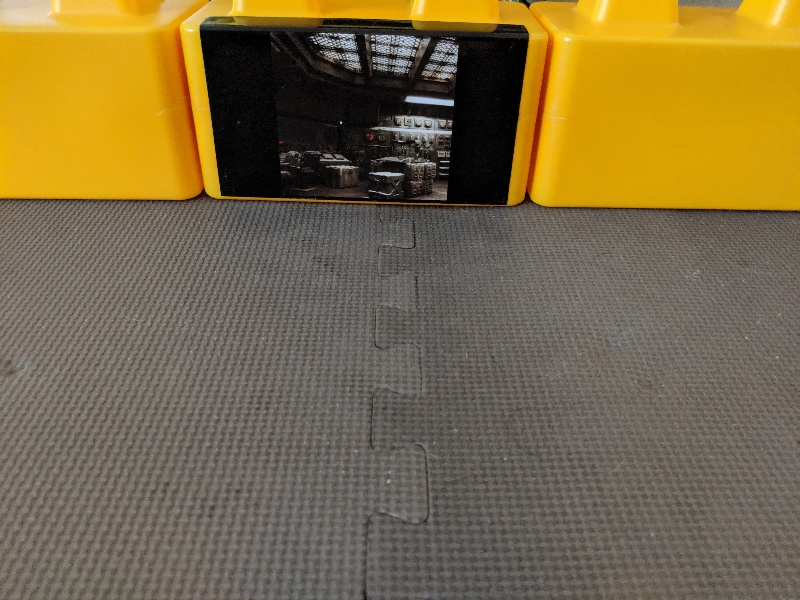Skystone: (192, 8, 534, 216)
